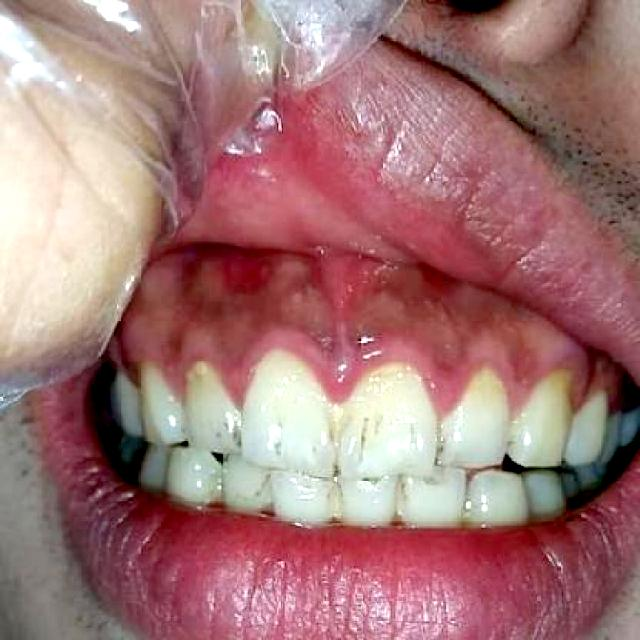Plaque: (148, 290, 558, 415)
